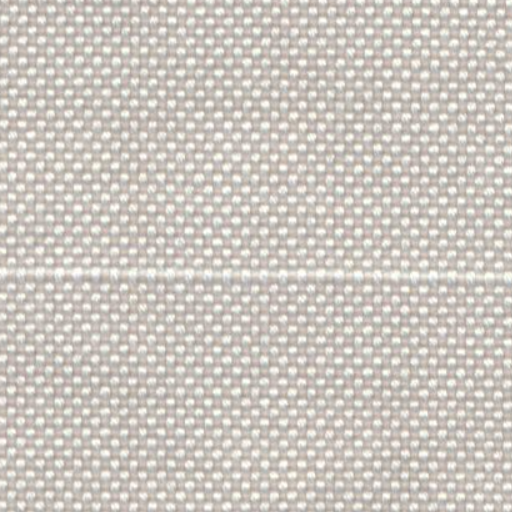TuoSha: (4, 242, 498, 318)
